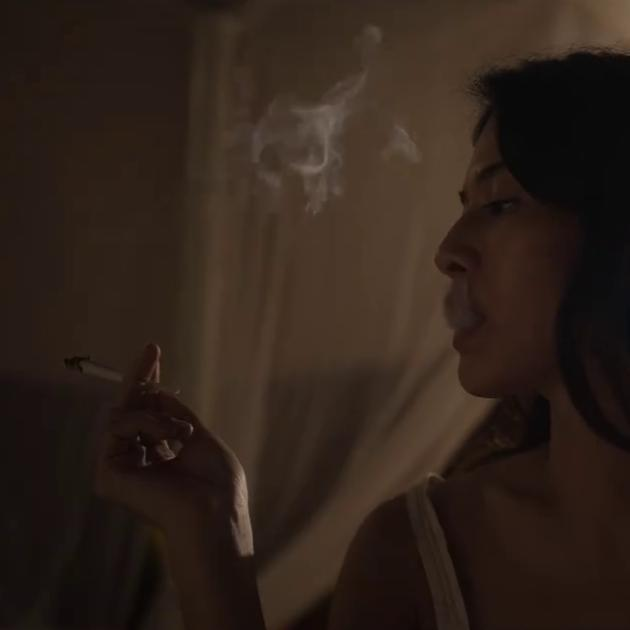cigarette: (60, 349, 185, 403)
